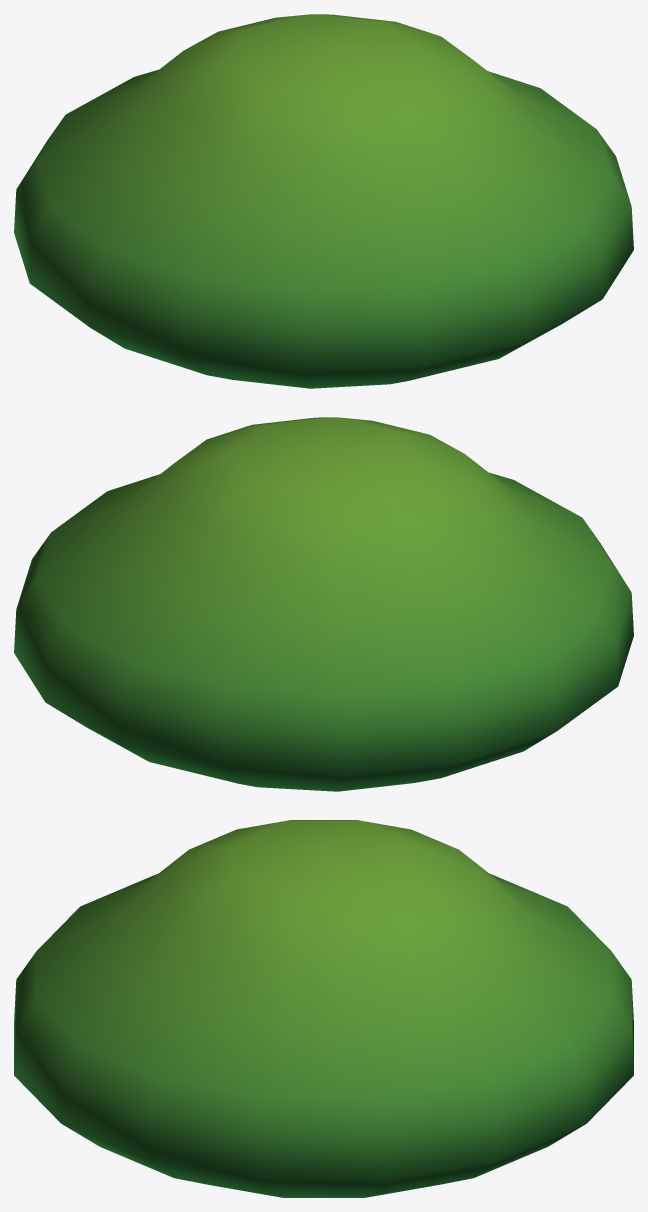
Rendered from Bush_3_B.glb.
3 renders of one model, top to bottom at view 1: azimuth 30°, elevation 25°; view 2: azimuth 150°, elevation 25°; view 3: azimuth 270°, elevation 25°, orthographic.
Bounding box in the file's own units: 1.68 × 0.8035 × 1.68.
